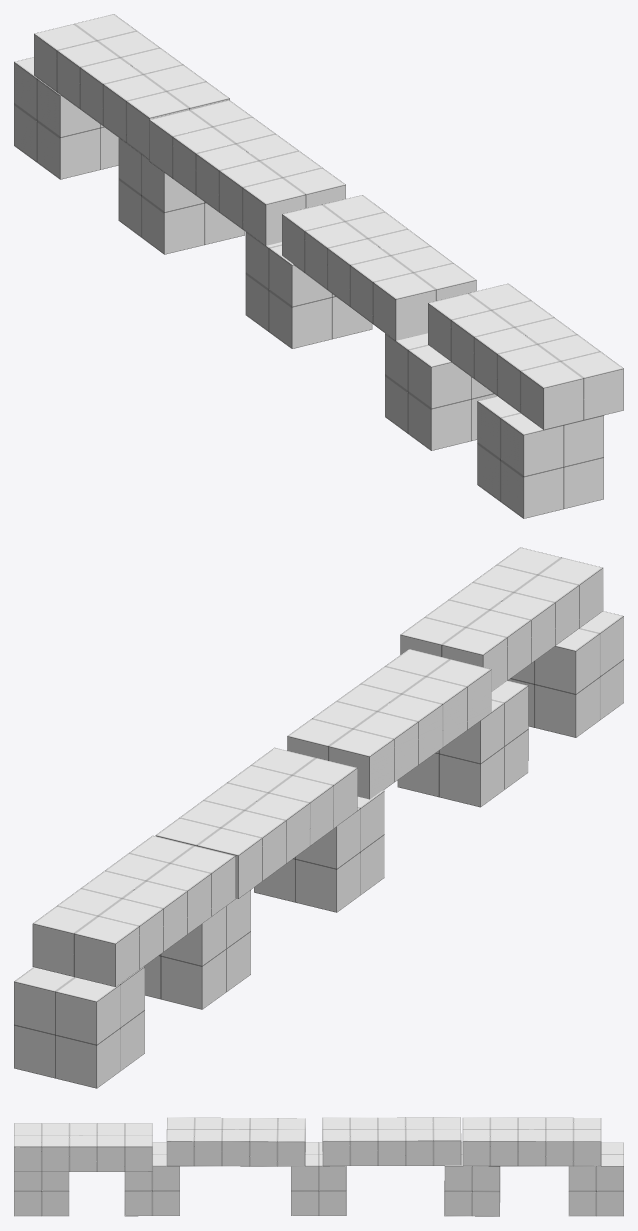
3 renders of one model, top to bottom at view 1: azimuth 30°, elevation 25°; view 2: azimuth 150°, elevation 25°; view 3: azimuth 270°, elevation 25°, orthographic. The views are drawn at different scales.
Visible parts, largest first — view 1: GridPlank_0, GridPlank_0:3, GridPlank_0:1, GridPlank_0:2, Plane/BasicEnvironment/StartCube-1, GridCube_0:2, GridCube_0, Plane/BasicEnvironment/StartCube-2, GridCube_0:1; view 2: GridPlank_0:2, GridPlank_0:3, GridPlank_0, GridPlank_0:1, Plane/BasicEnvironment/StartCube-2, Plane/BasicEnvironment/StartCube-1, GridCube_0:2, GridCube_0, GridCube_0:1; view 3: GridPlank_0:2, GridPlank_0:3, GridPlank_0:1, GridPlank_0, Plane/BasicEnvironment/StartCube-2, GridCube_0, GridCube_0:2, GridCube_0:1, Plane/BasicEnvironment/StartCube-1.
Boxes of the visible parts, x1,y1,x2,y2 form: GridPlank_0: (428,283,623,429); GridPlank_0:3: (282,195,476,340); GridPlank_0:1: (149,100,345,245); GridPlank_0:2: (34,14,229,159); Plane/BasicEnvironment/StartCube-1: (477,396,603,518); GridCube_0:2: (385,333,497,450); GridCube_0: (245,231,372,348); Plane/BasicEnvironment/StartCube-2: (14,57,118,179); GridCube_0:1: (118,138,244,254); GridPlank_0:2: (32,835,235,986); GridPlank_0:3: (287,649,491,799); GridPlank_0: (400,547,603,691); GridPlank_0:1: (155,747,357,898); Plane/BasicEnvironment/StartCube-2: (14,966,144,1088); Plane/BasicEnvironment/StartCube-1: (508,611,623,737); GridCube_0:2: (397,680,528,807); GridCube_0: (254,790,384,912); GridCube_0:1: (144,890,250,1009); GridPlank_0:2: (462,1117,601,1166); GridPlank_0:3: (166,1117,305,1166); GridPlank_0:1: (322,1117,461,1166); GridPlank_0: (14,1123,152,1171); Plane/BasicEnvironment/StartCube-2: (568,1142,623,1216); GridCube_0: (291,1142,346,1215); GridCube_0:2: (124,1142,179,1216); GridCube_0:1: (444,1142,500,1216); Plane/BasicEnvironment/StartCube-1: (14,1172,69,1216).
Bounding box in the file's own units: 0.2526 × 0.3008 × 2.2.
